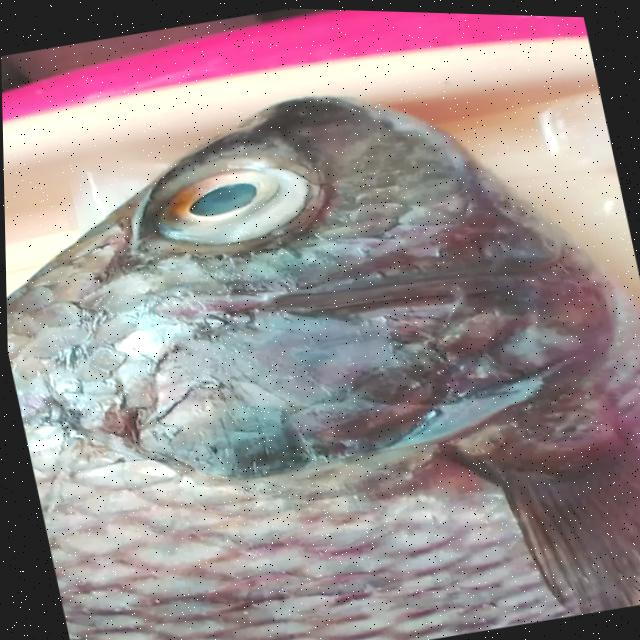Fresh: (21, 326, 619, 640), (107, 92, 388, 294)
